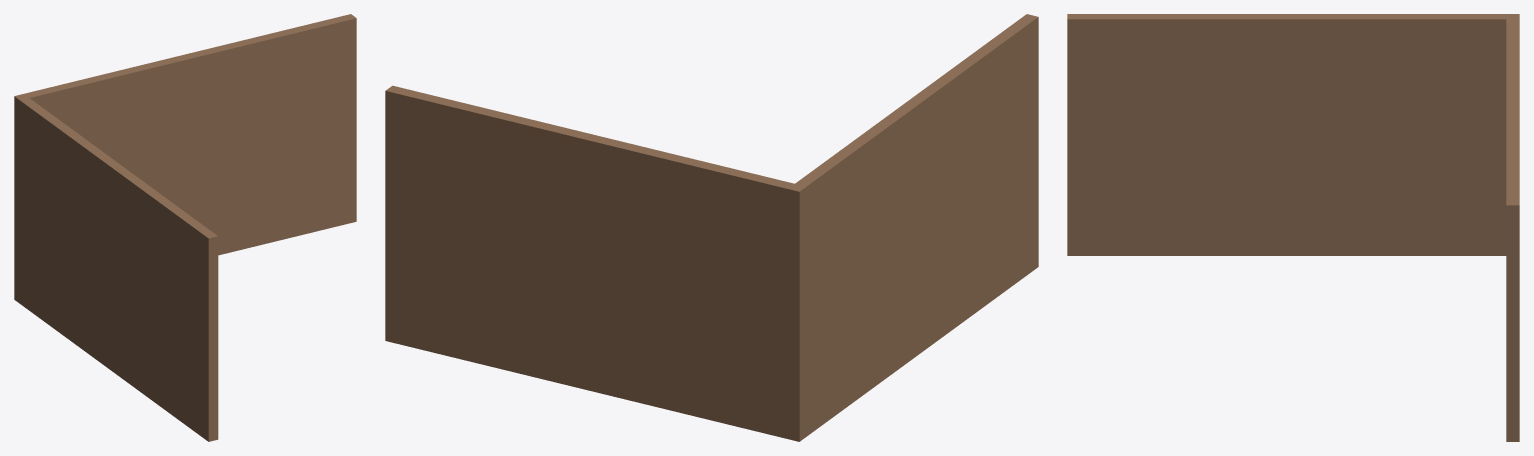
File: Walls_003.fbx
3 views of the same model, side by side, from view 1: azimuth 30°, elevation 25°; view 2: azimuth 150°, elevation 25°; view 3: azimuth 270°, elevation 25° (orthographic). The views are drawn at different scales.
Parts seen in each view (by area): view 1: Walls.003; view 2: Walls.003; view 3: Walls.003.
Part boxes in pixels (left/top/right/bottom): Walls.003: left=14, top=14, right=356, bottom=441; Walls.003: left=385, top=14, right=1038, bottom=441; Walls.003: left=1067, top=14, right=1519, bottom=441.
Bounding box in the file's own units: 537 × 310 × 537.
